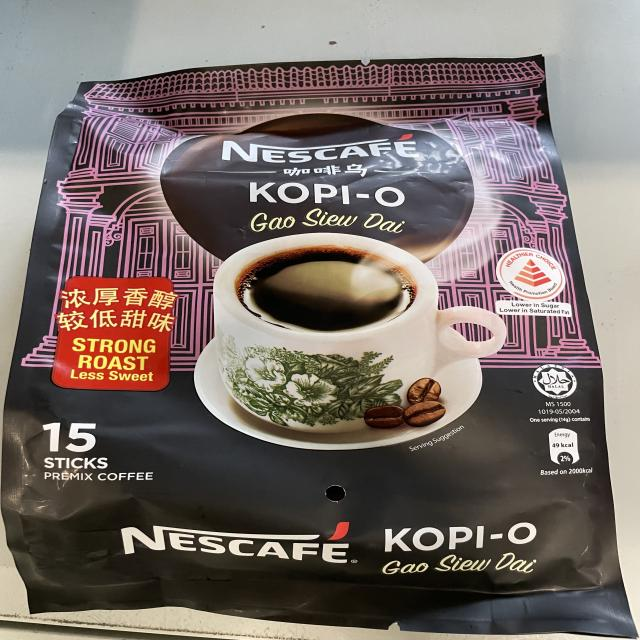object_name: (45, 76, 599, 628)
